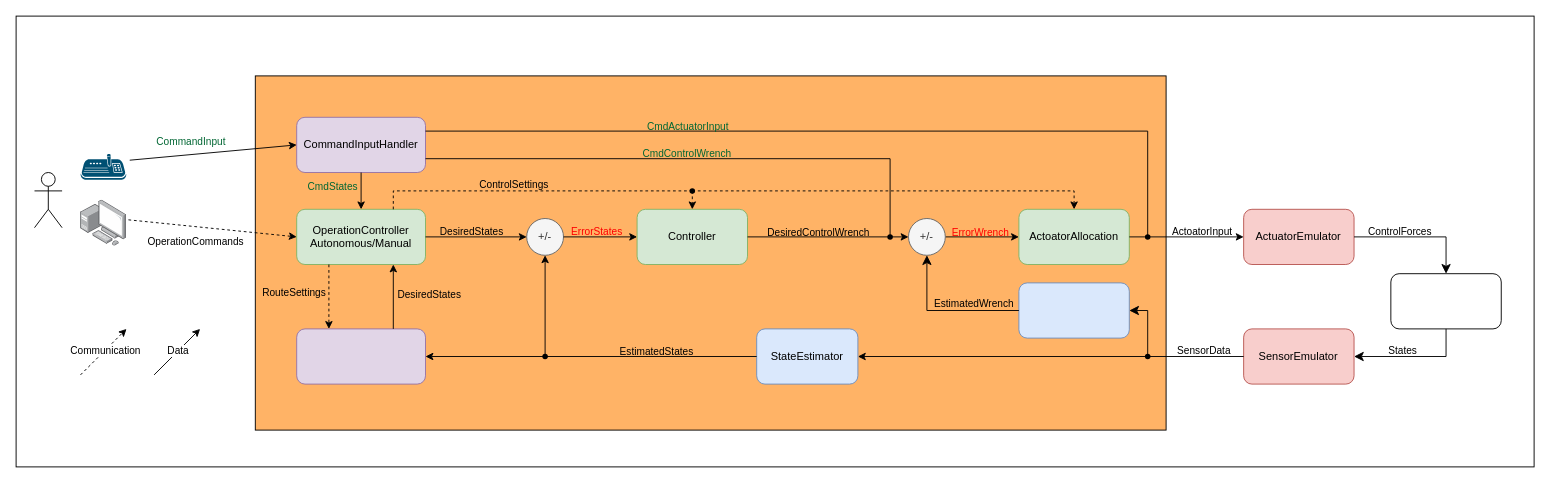
Some shapes in this 1550 by 483 pixel diagram are drawn without their labels. The centre of each missing label's shape, as x and y in pixels:
"Kinematics" goes at point 1445,301.
"Pilot" goes at point 48,200.
"RoutePlanner" goes at point 361,356.
"WrenchEstimator" goes at point 1073,310.
